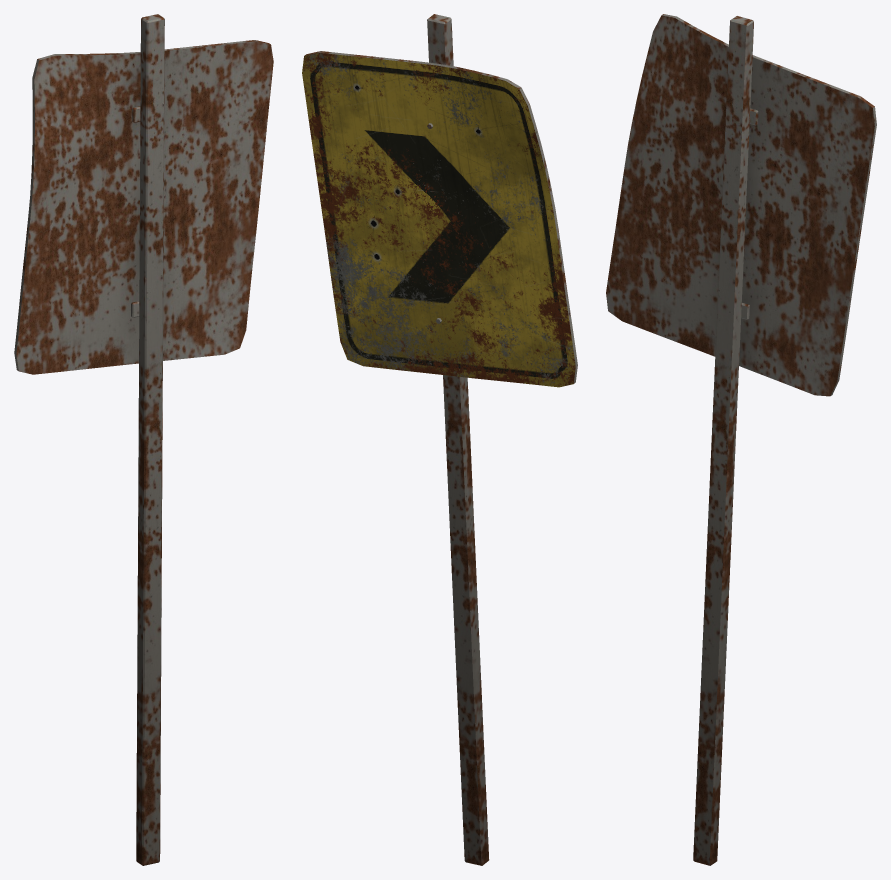
File: sign_warning.glb
3 views of the same model, side by side, from view 1: azimuth 30°, elevation 25°; view 2: azimuth 150°, elevation 25°; view 3: azimuth 330°, elevation 25° (orthographic). The views are drawn at different scales.
Visible parts, largest first — view 1: sign_warning_galvanized; view 2: sign_warning_sign_warning, sign_warning_galvanized; view 3: sign_warning_galvanized.
Boxes of the visible parts, box(x1,y1,x2,y2) form: sign_warning_galvanized: box(14, 14, 273, 865); sign_warning_sign_warning: box(302, 52, 575, 387); sign_warning_galvanized: box(304, 14, 577, 865); sign_warning_galvanized: box(606, 14, 876, 865).
Size of the model in its own units: 0.8598 by 2.6 by 0.2182.
Materials: 2 (2 with a texture image).
